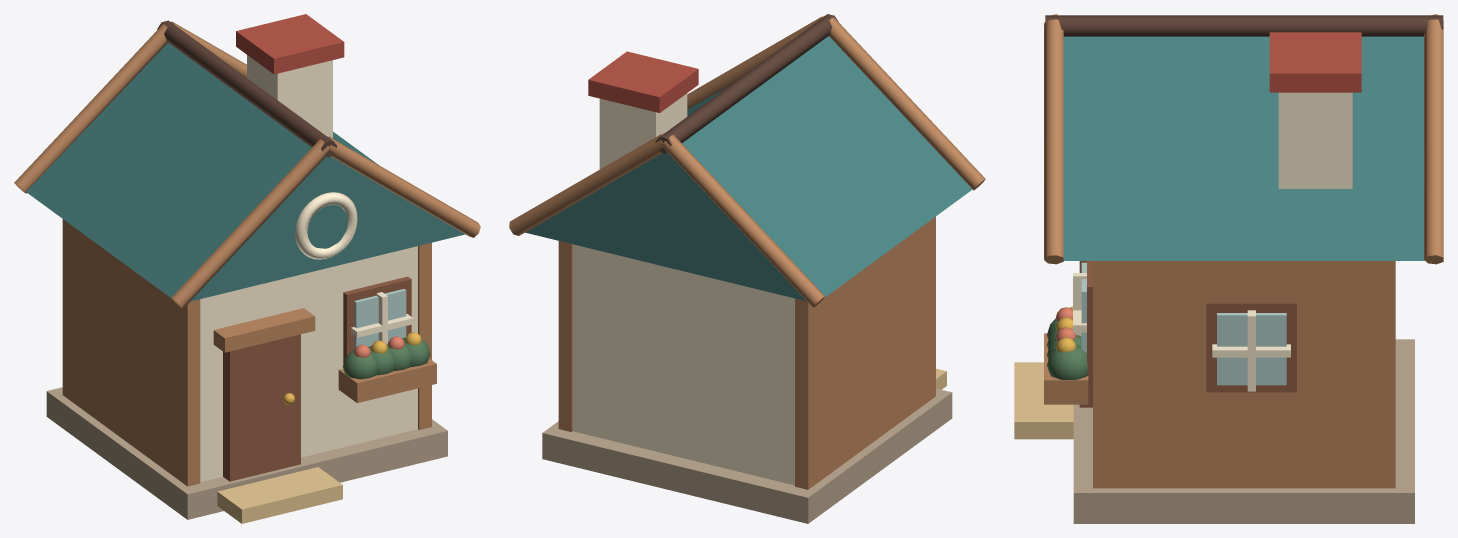
File: cottage-mint.glb
3 renders of one model, left to right at view 1: azimuth 30°, elevation 25°; view 2: azimuth 150°, elevation 25°; view 3: azimuth 270°, elevation 25°, orthographic. The views are drawn at different scales.
Visible parts, largest first — view 1: surface_#4b8584, surface_#be8960, surface_#fff2d6, surface_#936047, surface_#bca991, surface_#b95648, surface_#e7c994, surface_#62473b, surface_#577d5b, surface_#b7d5cf; view 2: surface_#4b8584, surface_#fff2d6, surface_#be8960, surface_#bca991, surface_#b95648, surface_#62473b; view 3: surface_#be8960, surface_#4b8584, surface_#bca991, surface_#fff2d6, surface_#62473b, surface_#b95648, surface_#b7d5cf, surface_#936047, surface_#e7c994, surface_#577d5b.
Part boxes in pixels (x1,y1,x2,y2): surface_#4b8584: [26, 42, 465, 301]; surface_#be8960: [14, 21, 480, 486]; surface_#fff2d6: [200, 55, 417, 482]; surface_#936047: [223, 276, 411, 481]; surface_#bca991: [46, 387, 447, 519]; surface_#b95648: [236, 14, 344, 74]; surface_#e7c994: [217, 467, 342, 523]; surface_#62473b: [157, 20, 337, 157]; surface_#577d5b: [342, 337, 430, 379]; surface_#b7d5cf: [354, 289, 406, 349]; surface_#4b8584: [525, 36, 972, 301]; surface_#fff2d6: [573, 93, 794, 485]; surface_#be8960: [509, 15, 985, 489]; surface_#bca991: [542, 388, 952, 523]; surface_#b95648: [588, 51, 698, 112]; surface_#62473b: [655, 14, 838, 153]; surface_#be8960: [1044, 14, 1443, 488]; surface_#4b8584: [1063, 36, 1424, 260]; surface_#bca991: [1073, 339, 1414, 523]; surface_#fff2d6: [1073, 92, 1352, 391]; surface_#62473b: [1045, 15, 1443, 36]; surface_#b95648: [1269, 32, 1361, 92]; surface_#b7d5cf: [1081, 262, 1286, 385]; surface_#936047: [1079, 261, 1296, 407]; surface_#e7c994: [1014, 362, 1073, 439]; surface_#577d5b: [1047, 318, 1087, 379].
Bounding box in the file's own units: 2.88 × 3.25 × 2.89.
